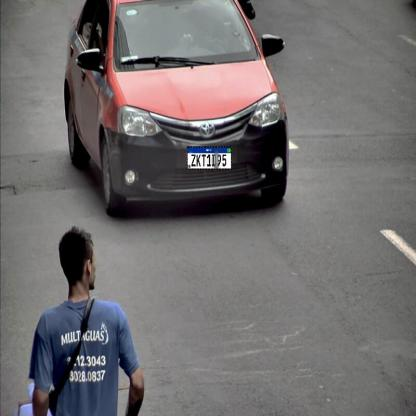PlacaM: (187, 146, 232, 170)
